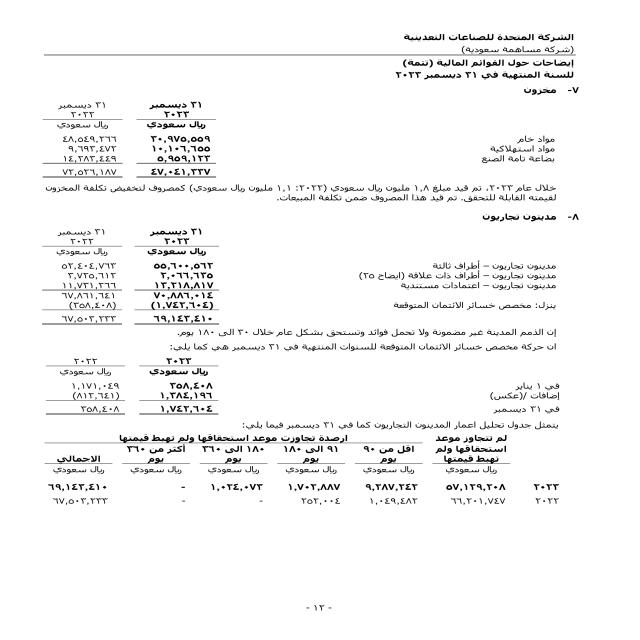notes: (392, 56, 578, 71)
table: (27, 428, 574, 523), (28, 220, 224, 331), (35, 97, 221, 183), (41, 354, 220, 424)
